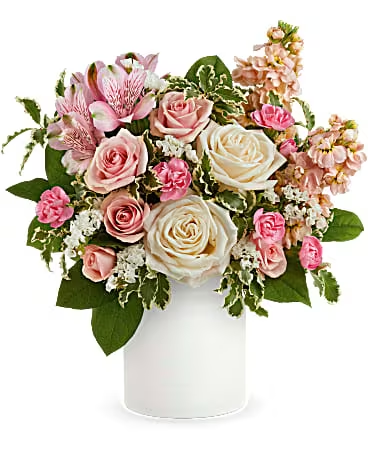Orange: (247, 19, 306, 100), (310, 113, 361, 190)
Pink: (86, 66, 153, 126), (78, 135, 149, 191), (47, 91, 91, 156), (99, 197, 152, 242), (153, 97, 211, 137), (152, 156, 192, 201), (33, 188, 75, 230), (250, 109, 294, 132), (297, 239, 329, 270), (84, 246, 114, 279), (255, 214, 284, 242)
White: (144, 199, 236, 285), (203, 124, 286, 191)
